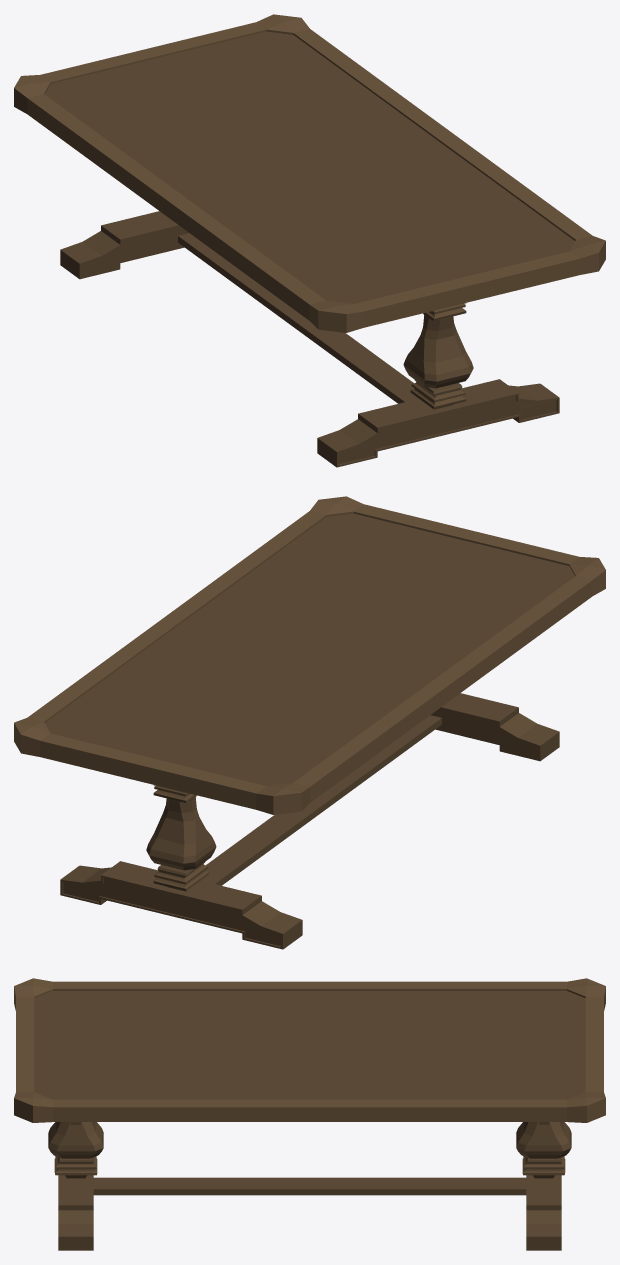
Rendered from Table.glb.
The picture shows the model from 3 angles, top to bottom: view 1: azimuth 30°, elevation 25°; view 2: azimuth 150°, elevation 25°; view 3: azimuth 270°, elevation 25°; orthographic projection. The views are drawn at different scales.
Parts seen in each view (by area): view 1: Table; view 2: Table; view 3: Table.
Boxes of the visible parts, x1,y1,x2,y2 form: Table: [14, 14, 605, 467]; Table: [14, 496, 605, 949]; Table: [14, 978, 605, 1250].
Size of the model in its own units: 1.42 by 0.8244 by 2.78.
